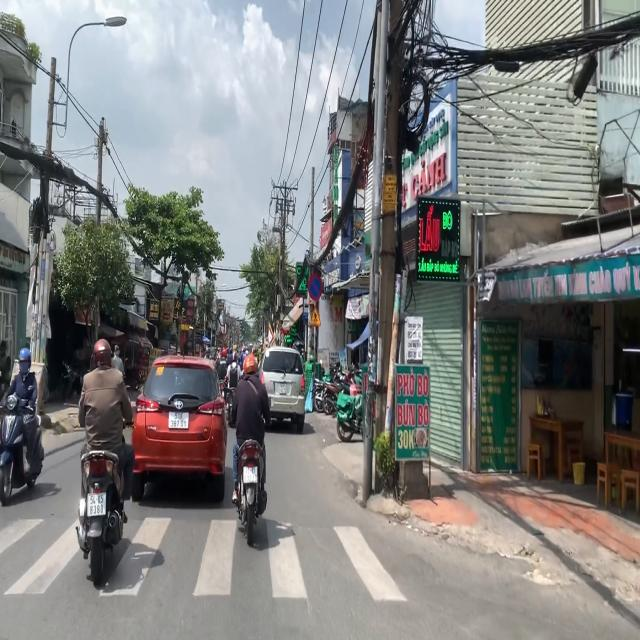Cam do: (307, 274, 323, 302)
Nguoi di bo cat ngang: (308, 306, 321, 328)
